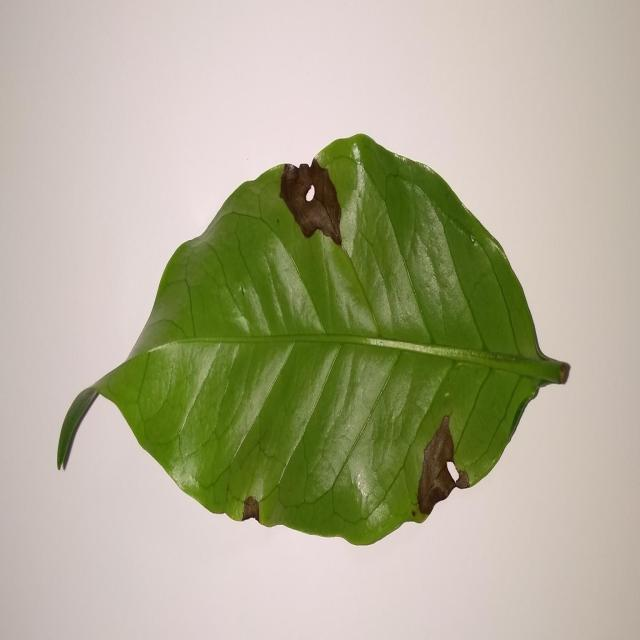Enfermedad-Antracnosis: (55, 134, 571, 548)
